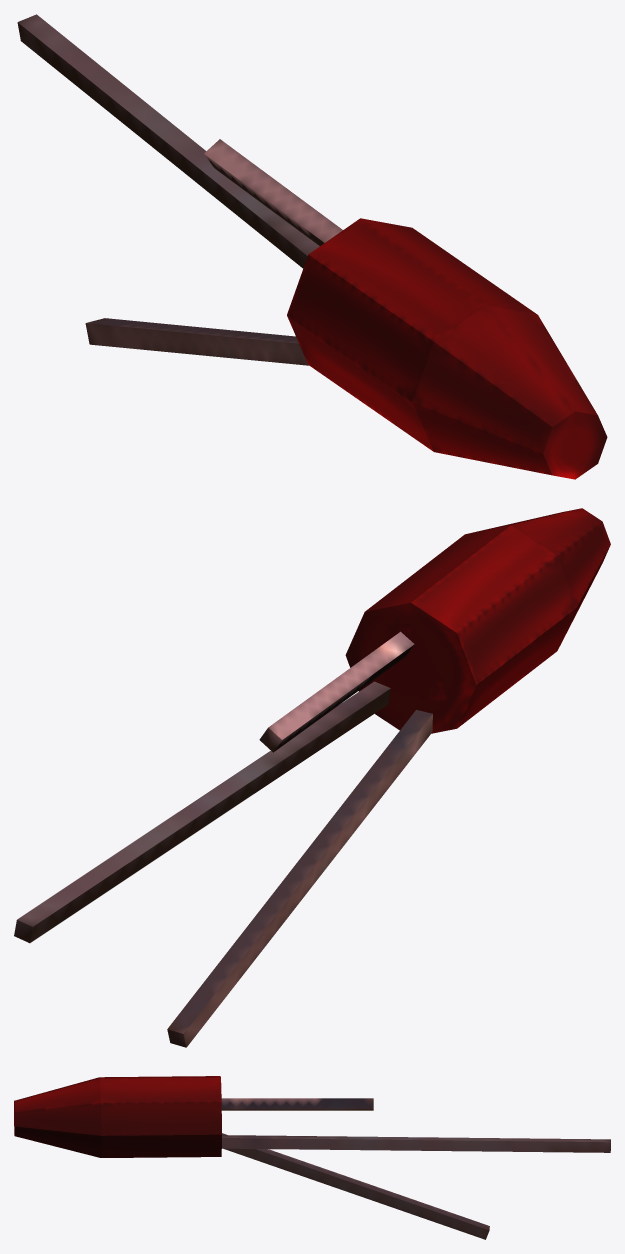
The picture shows the model from 3 angles, top to bottom: view 1: azimuth 30°, elevation 25°; view 2: azimuth 150°, elevation 25°; view 3: azimuth 270°, elevation 25°; orthographic projection. The views are drawn at different scales.
Visible parts, largest first — view 1: Bala_Cylinder.003, Estela_1_Cube.006, Estela_3_Cube.008, Estela_2_Cube.007; view 2: Bala_Cylinder.003, Estela_1_Cube.006, Estela_3_Cube.008, Estela_2_Cube.007; view 3: Bala_Cylinder.003, Estela_1_Cube.006, Estela_3_Cube.008, Estela_2_Cube.007.
Boxes of the visible parts, x1,y1,x2,y2 form: Bala_Cylinder.003: (287,218,607,479); Estela_1_Cube.006: (17,14,319,268); Estela_3_Cube.008: (85,318,308,365); Estela_2_Cube.007: (204,139,342,245); Bala_Cylinder.003: (345,508,610,733); Estela_1_Cube.006: (14,681,390,943); Estela_3_Cube.008: (167,710,432,1047); Estela_2_Cube.007: (259,631,414,752); Bala_Cylinder.003: (14,1076,221,1157); Estela_1_Cube.006: (222,1135,610,1152); Estela_3_Cube.008: (222,1133,489,1239); Estela_2_Cube.007: (221,1098,373,1110).
Size of what is drawn, in the model's own units: 0.2897 by 0.5732 by 1.94.
